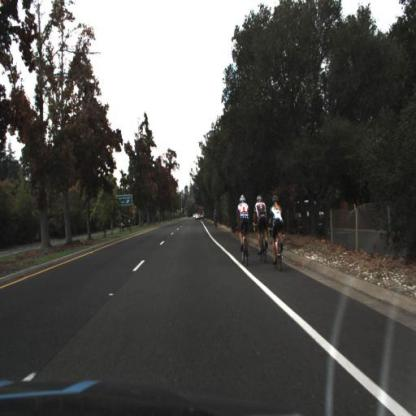biker: (252, 195, 272, 264), (269, 196, 286, 269), (235, 195, 252, 265), (212, 208, 218, 231)
car: (287, 190, 329, 246), (284, 198, 331, 235)
